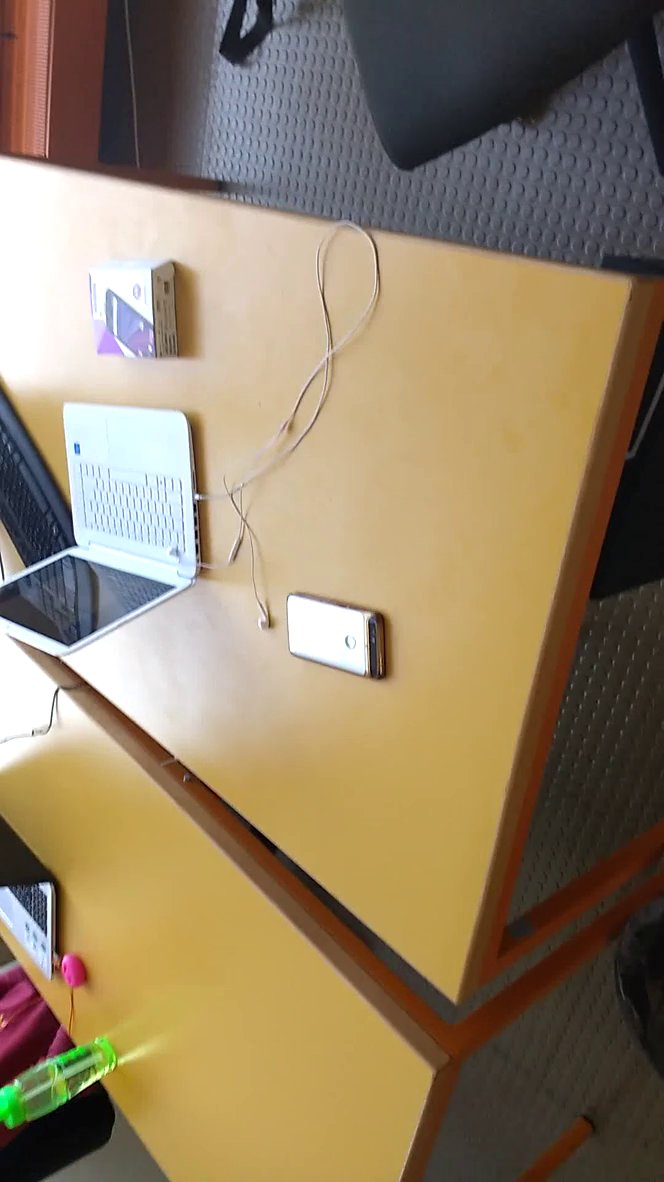laptop: (1, 395, 210, 664)
phone: (279, 581, 401, 701)
